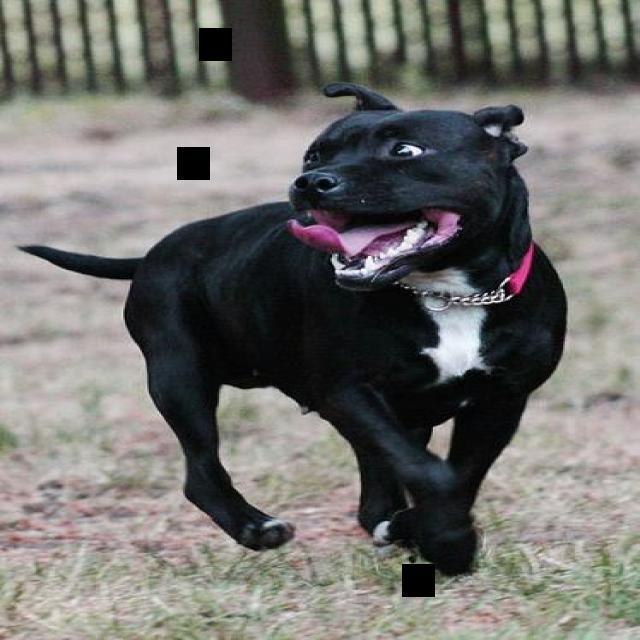adult_dog: (11, 80, 575, 578)
